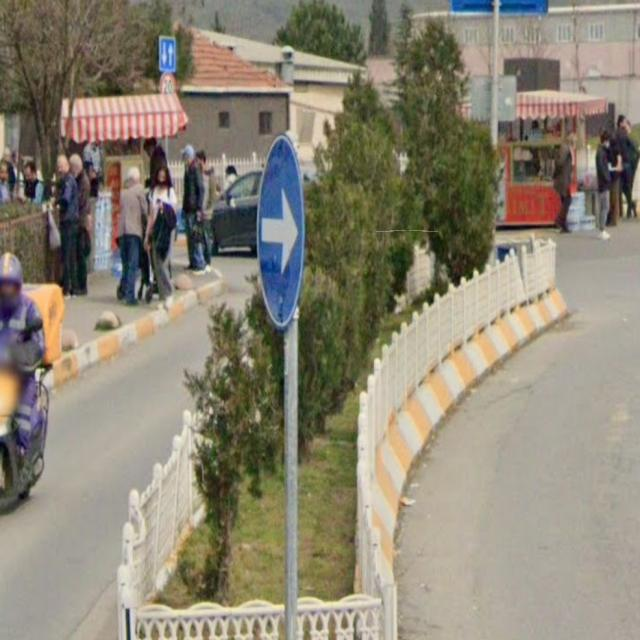Turn Right: (256, 136, 309, 331)
